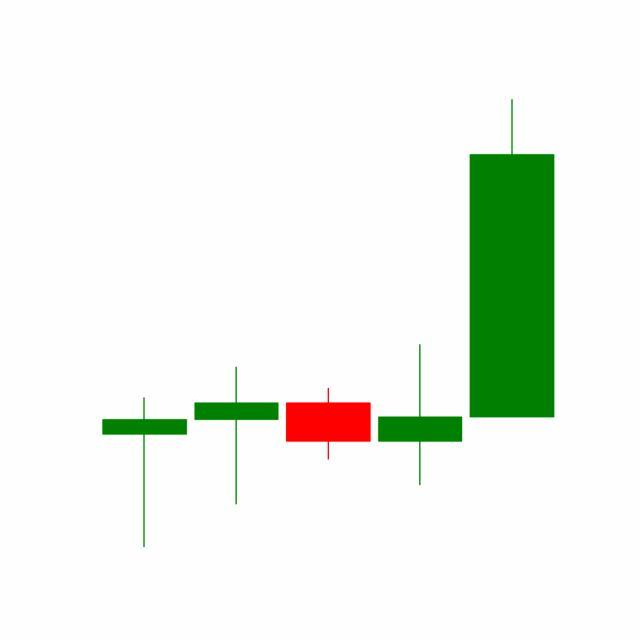Spinning Top: (374, 343, 468, 488)
